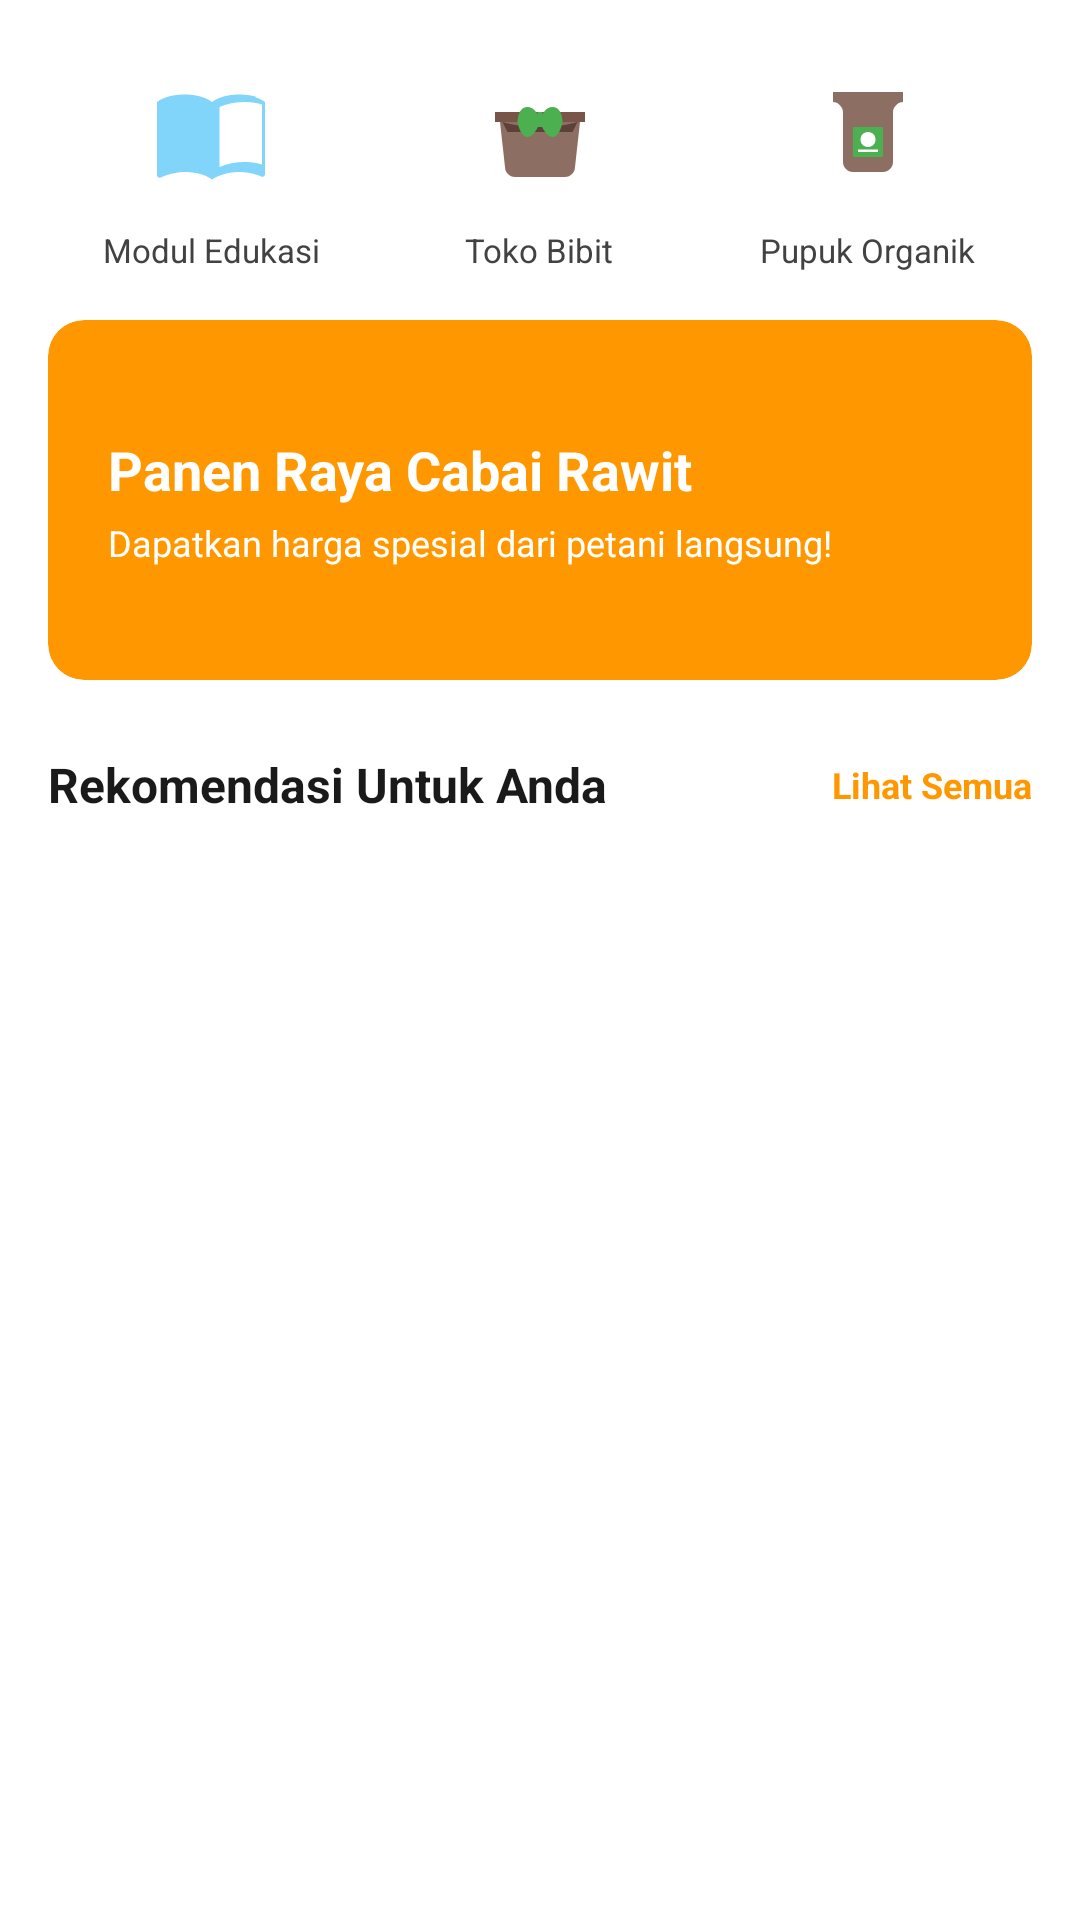

Icon bounding boxes for this 1080 × 1920 phone screenshot, format (x1, y1, x2, y2):
organic fertilizer: (833, 92, 903, 172)
seed store: (495, 107, 585, 177)
